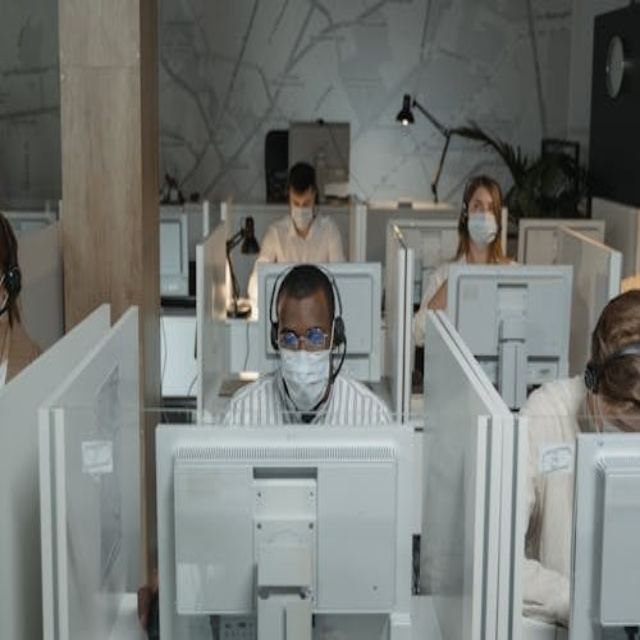Gafas: (277, 328, 332, 351)
Mascara: (279, 345, 332, 410), (466, 211, 499, 246), (290, 203, 314, 231)
